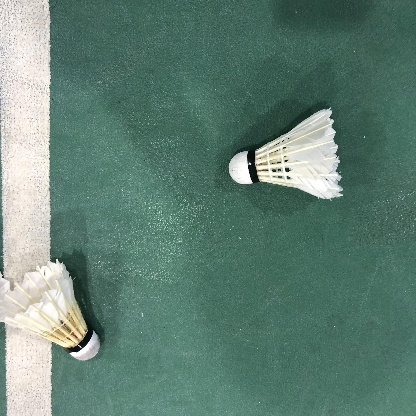ball_single: (229, 108, 343, 199), (2, 258, 100, 361)
